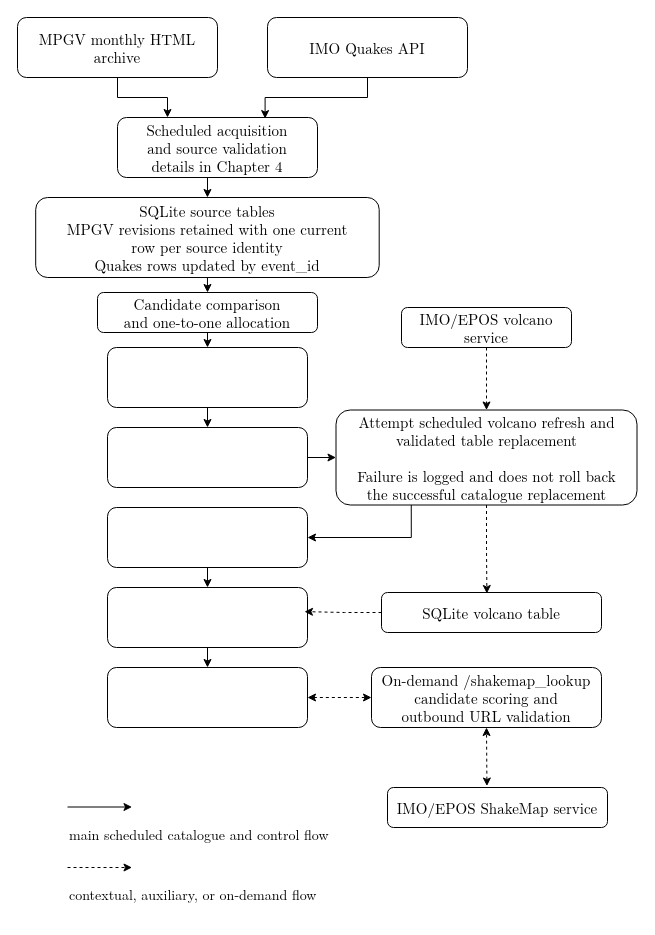
The diagram is 655 pixels wide and 935 high, and some of its shapes have lost their labels. The box of each missing label's shape, as (x1, y1, x2, y2) in pixels:
Flask delivery routes catalogue, analysis limits, CSV, volcanoes, and health: (106, 586, 308, 648)
Invalidate the default /earthquakes response cache: (106, 506, 308, 568)
Map and Insights clients MapLibre GL/deck.gl and Recharts: (106, 666, 308, 728)
Post-commit canonical invariant verification: (106, 426, 308, 488)
Transactional replacement of the selected canonical range: (106, 346, 308, 408)
